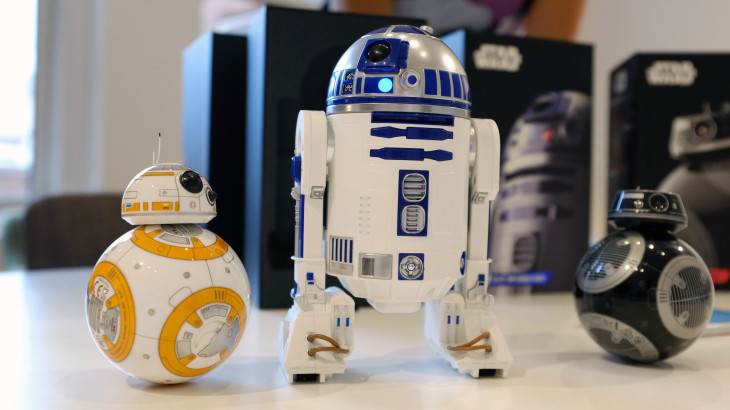r2d2: (290, 25, 510, 381)
